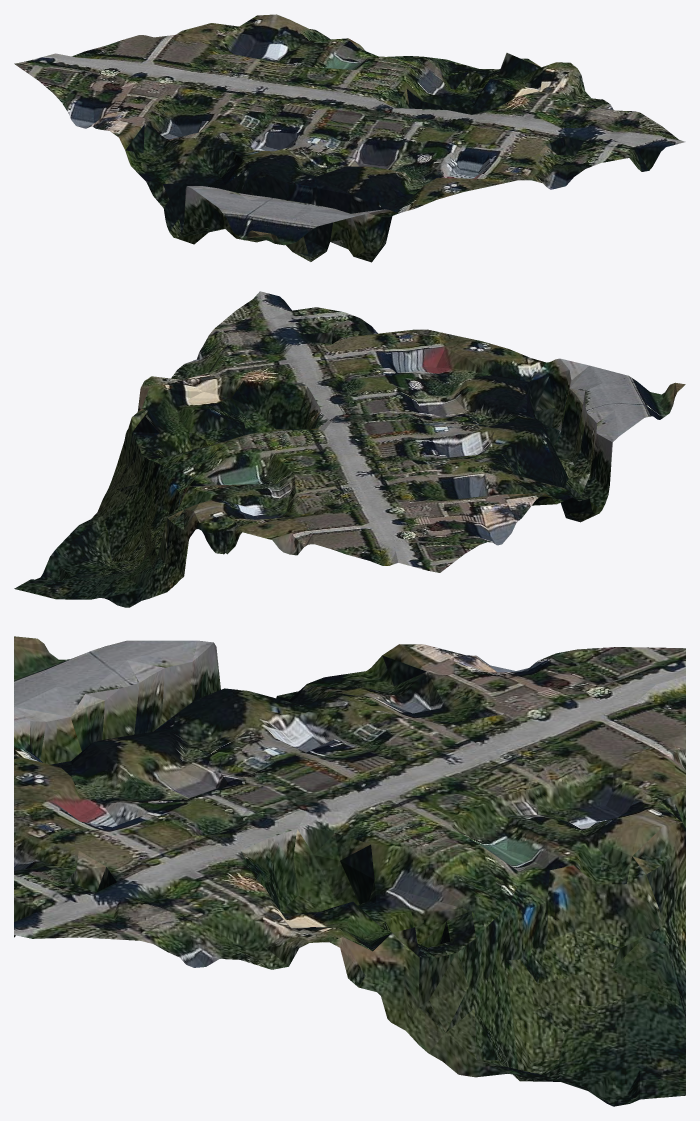
The model's file is map_15_8186_13786.dae.
3 renders of one model, top to bottom at view 1: azimuth 30°, elevation 25°; view 2: azimuth 150°, elevation 25°; view 3: azimuth 270°, elevation 25°, orthographic. The views are drawn at different scales.
Parts seen in each view (by area): view 1: Ter0; view 2: Ter0; view 3: Ter0.
Part boxes in pixels (x1,y1,x2,y2): Ter0: [14, 14, 685, 262]; Ter0: [14, 291, 685, 607]; Ter0: [14, 636, 685, 1106].
Bounding box in the file's own units: 63.88 × 63.88 × 19.66.
3 materials, 3 textured.
